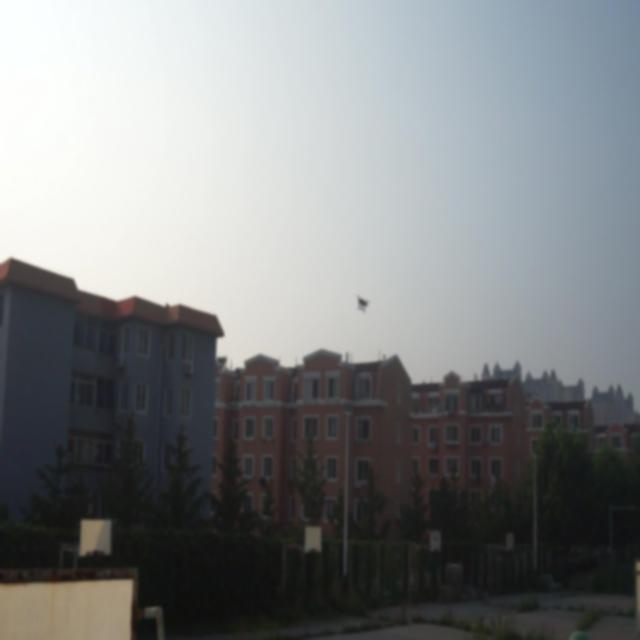UAV: (356, 295, 371, 313)
